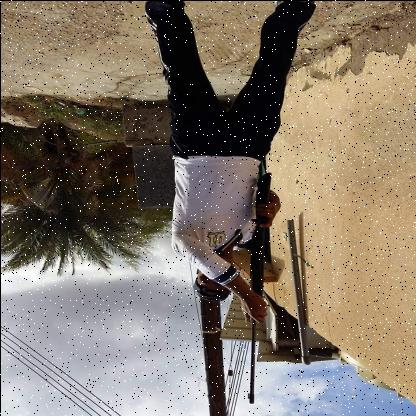rifle: (244, 168, 274, 406)
